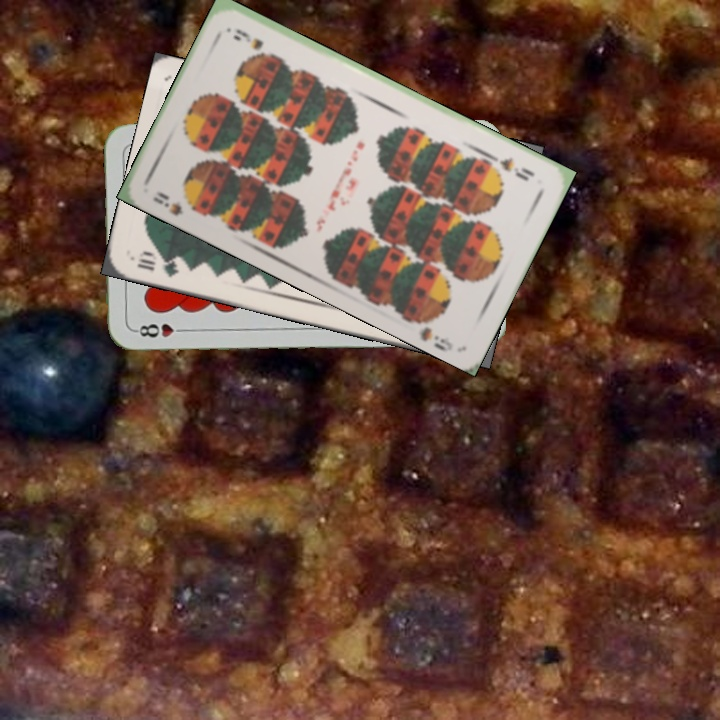G10: (133, 248, 182, 280)
H8: (131, 320, 190, 340)
S9: (149, 187, 203, 218), (488, 152, 538, 184)
